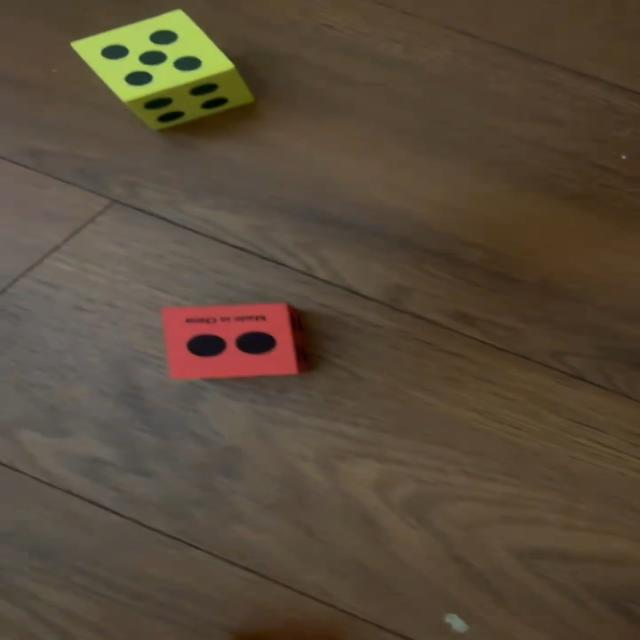red_block: (164, 304, 304, 380)
